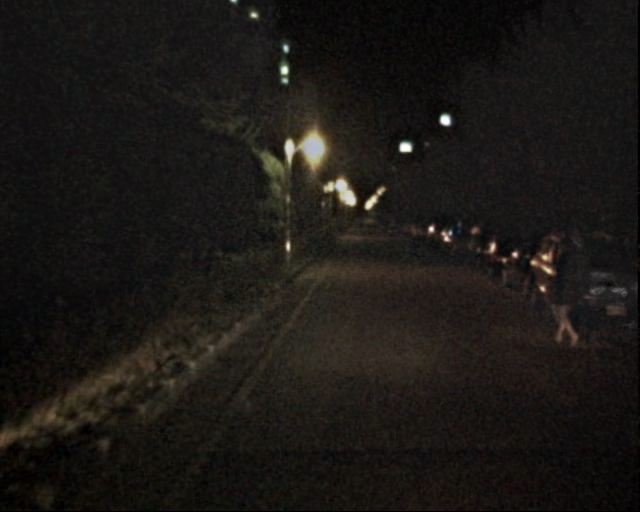person: (542, 250, 584, 352), (555, 228, 596, 329)
